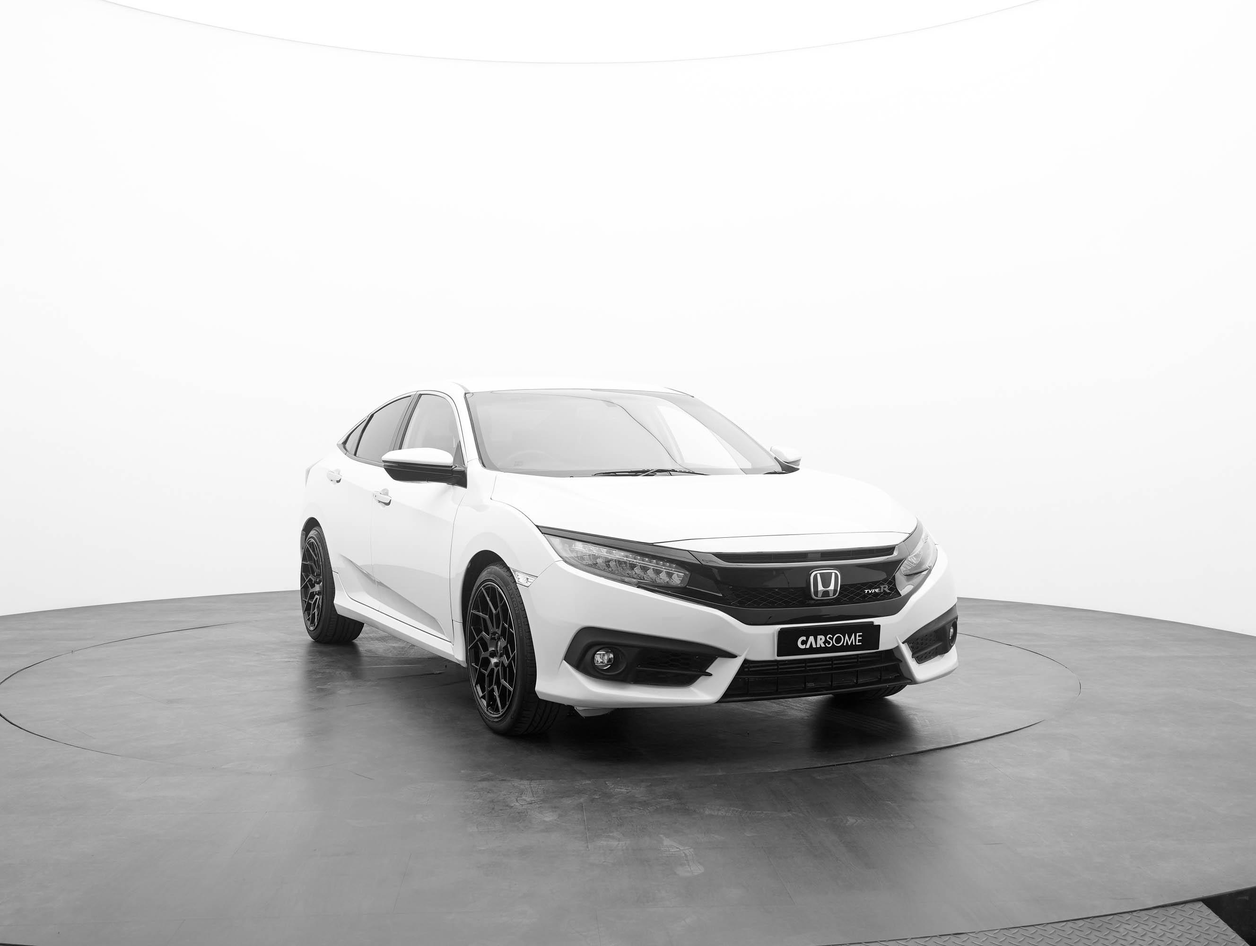Car hood: (489, 466, 923, 557)
Driver-s door - -F-R-: (370, 382, 454, 647)
Fender - -F-R-: (451, 458, 561, 632)
Fender - -R-R-: (300, 462, 335, 600)
Front bumper: (519, 560, 965, 714)
Headlight - -L-: (890, 524, 942, 601)
Headlight - -R-: (532, 520, 693, 593)
Passenger-s door - -R-R-: (323, 387, 406, 630)
Rear light - -R-: (294, 457, 322, 491)
Side bumper - -R-: (326, 568, 472, 673)
Side mirror - -L-: (763, 440, 806, 476)
Side mirror - -R-: (377, 442, 463, 490)
